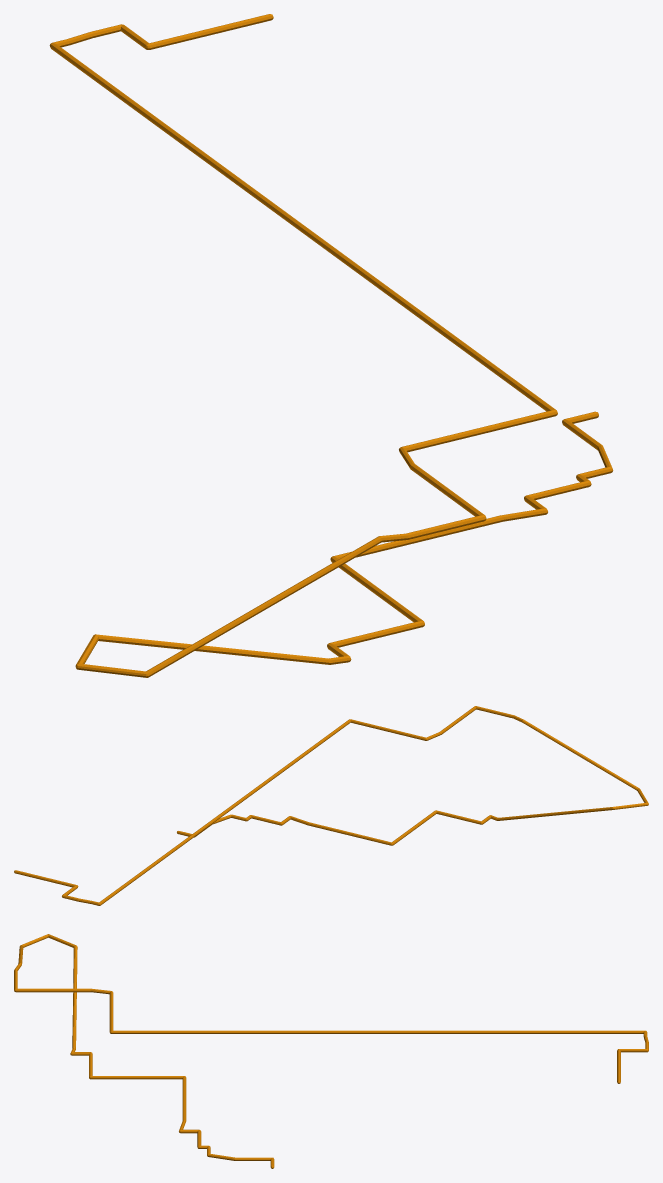
3 views of the same model, one above another, from view 1: azimuth 30°, elevation 25°; view 2: azimuth 150°, elevation 25°; view 3: azimuth 270°, elevation 25° (orthographic). The views are drawn at different scales.
Bounding box in the file's own units: 2406 × 520 × 3390.
